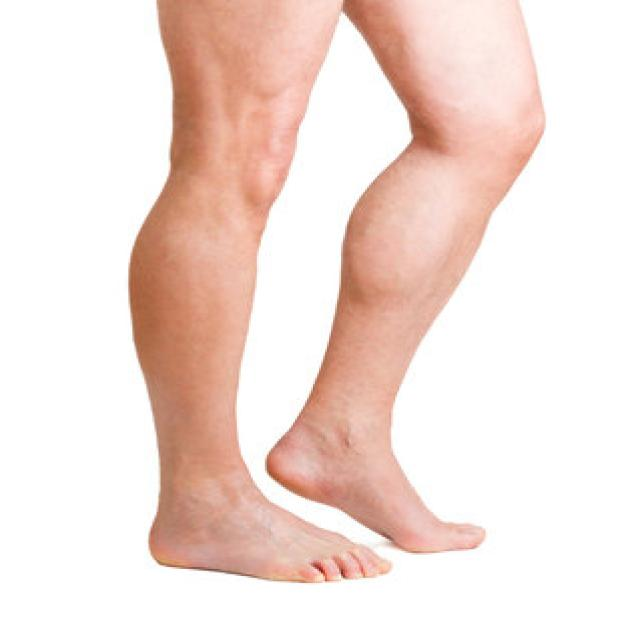Normal: (120, 94, 526, 409)
